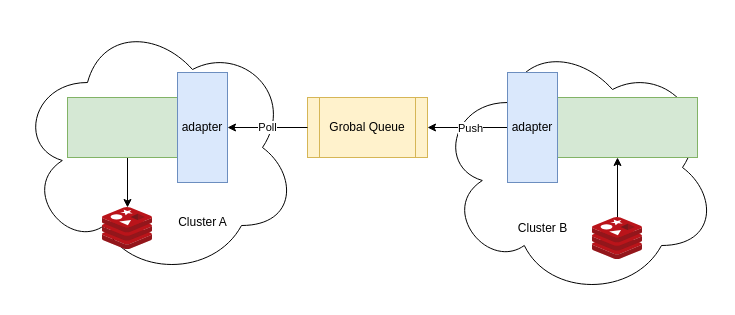
The diagram is 735 pixels wide and 315 high, and some of its shapes have lost their labels. The centre of each missing label's shape, as x and y in pixels:
"redis-cannal queue-to-stream" belongs at (x=127, y=127).
"redis-cannal stream-to-queue" belongs at (x=617, y=127).
